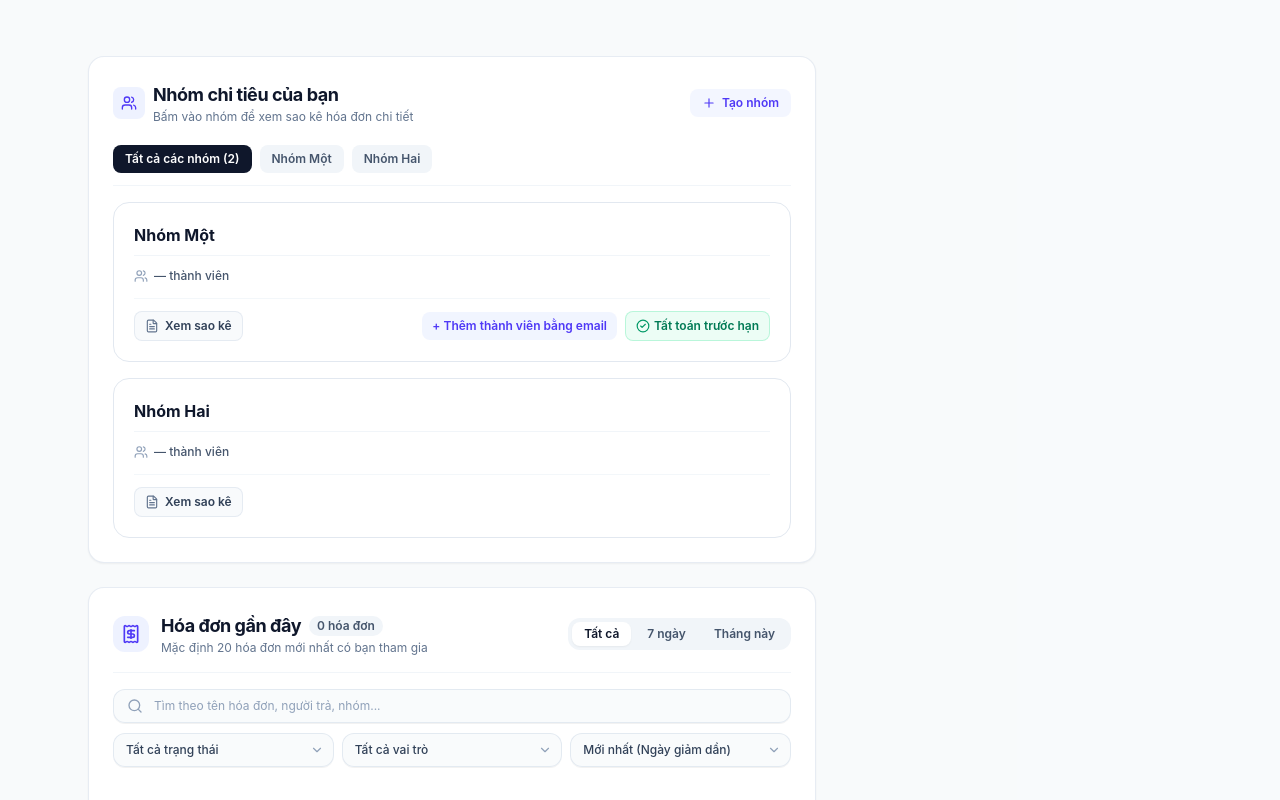
Scenario: duplicate member error is displayed without closing the form
This screenshot has width=1280, height=800.
Click the button "+ Thêm thành viên bằng email".
click(520, 326)  # box [422,312,617,340]
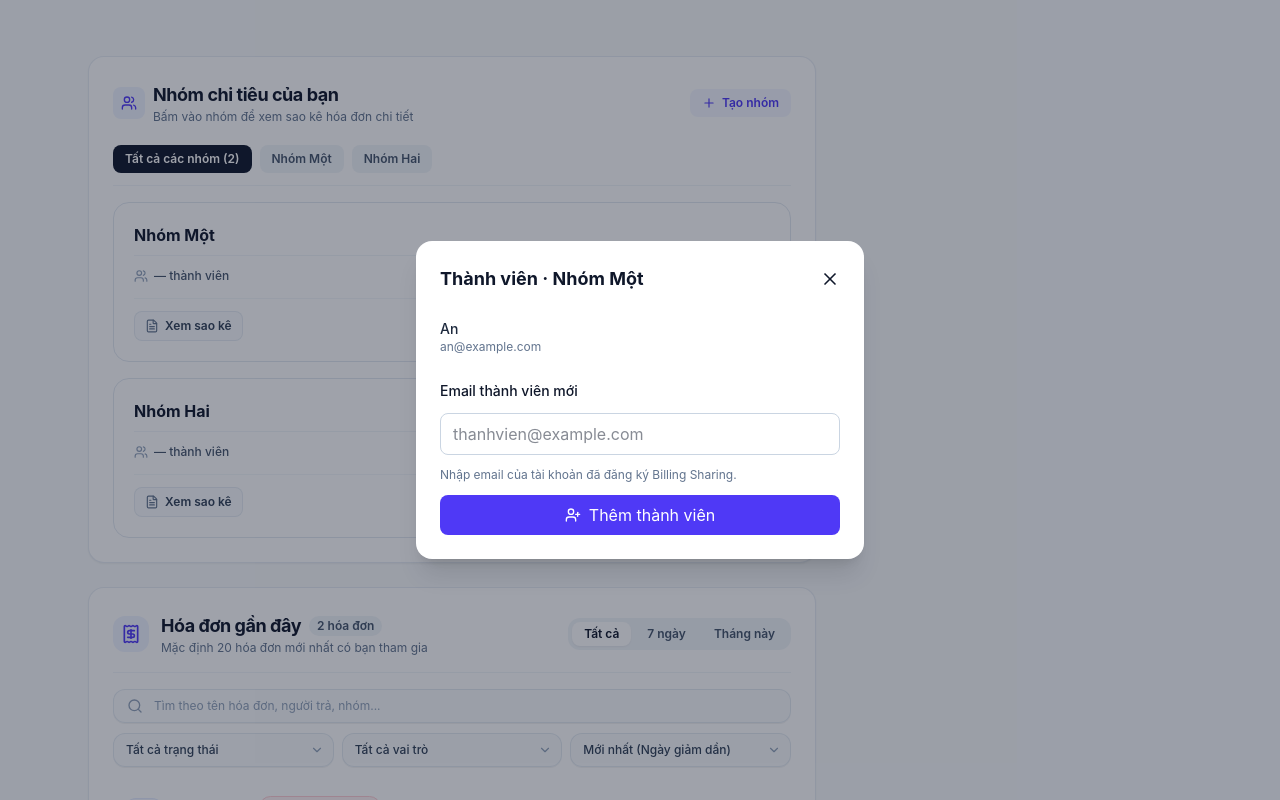
Check: the text "an@example.com" is shown, box [440,339,541,355]
Type "an@example.com" into the field labelled "Email thành viên mới".
click(640, 434); type("an@example.com")  # box [440,413,840,455]
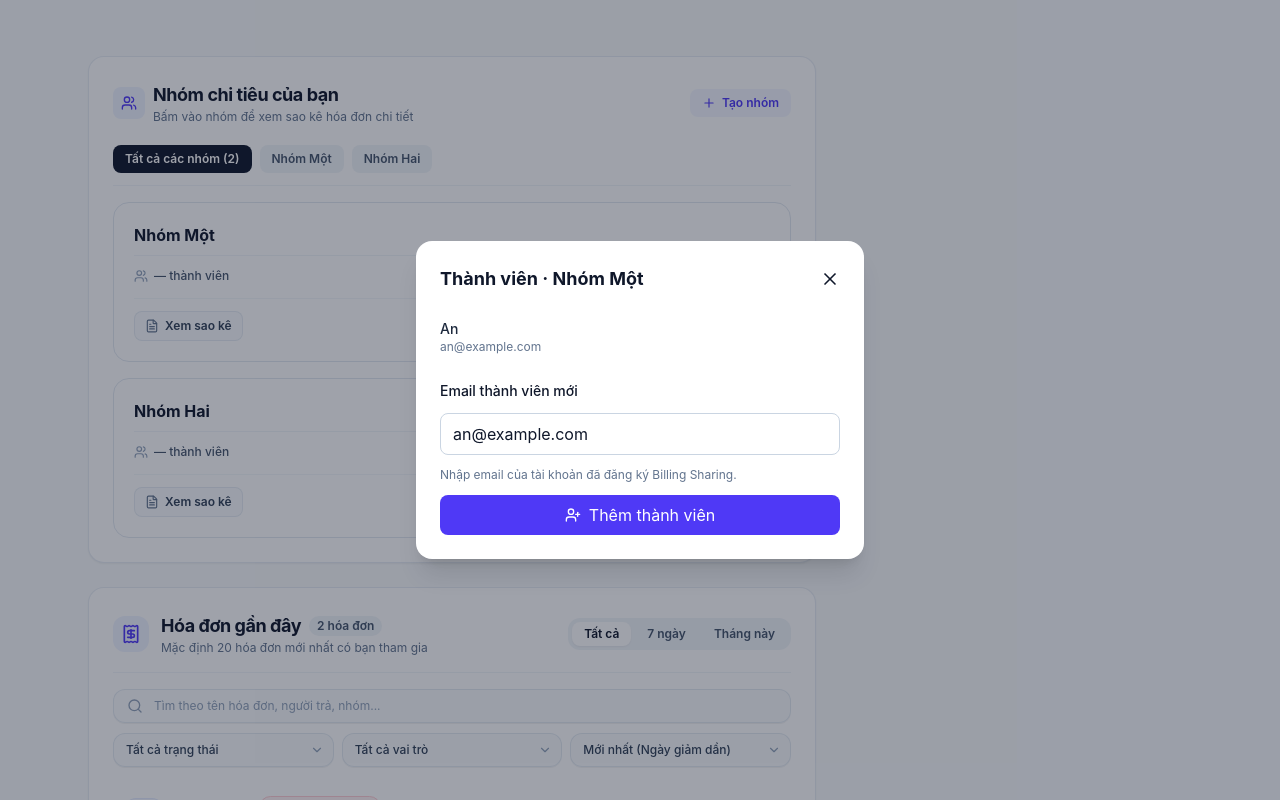
Click the button "Thêm thành viên".
click(640, 515)  # box [440,495,840,535]
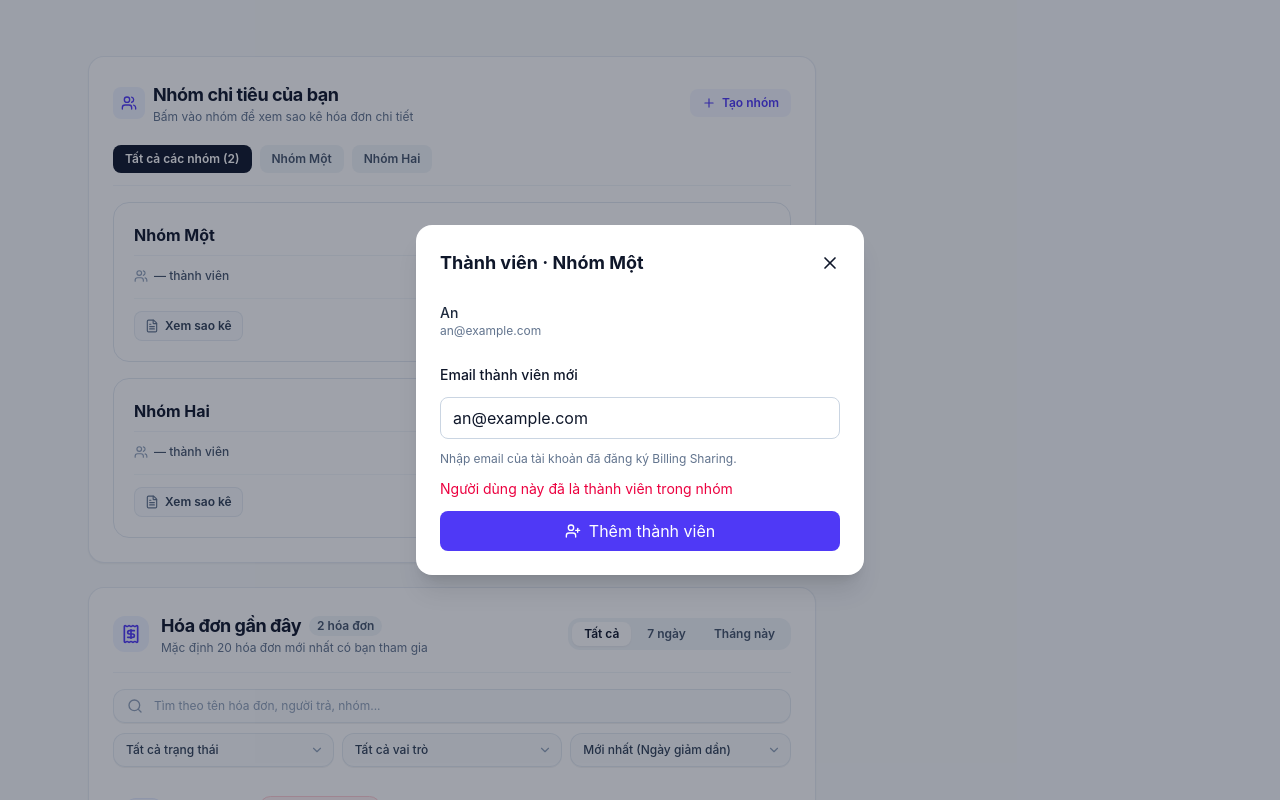
Check: the dialog is shown, box [416,225,864,575]
Check: the message reads "Người dùng này đã là thành viên trong nhóm", box [440,480,733,497]
